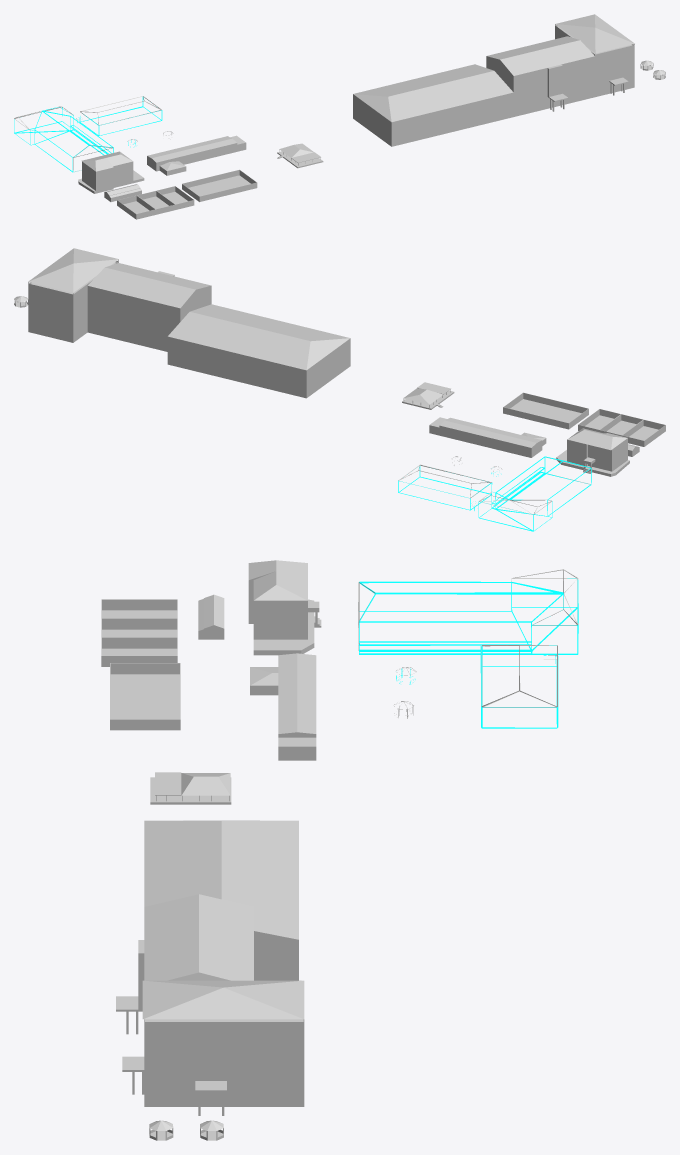
3 renders of one model, top to bottom at view 1: azimuth 30°, elevation 25°; view 2: azimuth 150°, elevation 25°; view 3: azimuth 270°, elevation 25°, orthographic. The views are drawn at different scales.
Visible parts, largest first — view 1: SketchUp.048, SketchUp.030, SketchUp.022, SketchUp.003, SketchUp.029, SketchUp.024, SketchUp.028, SketchUp.031, SketchUp.023, SketchUp.026, SketchUp.025, SketchUp.027; view 2: SketchUp.048, SketchUp.022, SketchUp.030, SketchUp.003, SketchUp.029, SketchUp.028, SketchUp.031, SketchUp.024, SketchUp.026, SketchUp.025, SketchUp.027; view 3: SketchUp.048, SketchUp.022, SketchUp.003, SketchUp.030, SketchUp.029, SketchUp.031, SketchUp.026, SketchUp.025, SketchUp.027, SketchUp.023, SketchUp.028, SketchUp.047 (+1 smaller).
Boxes of the visible parts, <box> form: SketchUp.048: <box>353,14,634,146</box>; SketchUp.030: <box>147,135,246,175</box>; SketchUp.022: <box>78,151,144,193</box>; SketchUp.003: <box>14,96,173,172</box>; SketchUp.029: <box>182,170,256,196</box>; SketchUp.024: <box>117,186,194,219</box>; SketchUp.028: <box>182,169,257,201</box>; SketchUp.031: <box>279,143,320,162</box>; SketchUp.023: <box>104,184,141,201</box>; SketchUp.026: <box>137,191,174,208</box>; SketchUp.025: <box>118,195,154,213</box>; SketchUp.027: <box>157,186,193,204</box>; SketchUp.048: <box>28,248,350,398</box>; SketchUp.022: <box>556,428,629,476</box>; SketchUp.030: <box>429,417,546,457</box>; SketchUp.003: <box>398,456,591,531</box>; SketchUp.029: <box>504,393,587,422</box>; SketchUp.028: <box>503,392,588,429</box>; SketchUp.031: <box>403,382,450,404</box>; SketchUp.024: <box>578,409,665,446</box>; SketchUp.026: <box>600,414,642,435</box>; SketchUp.025: <box>622,420,664,440</box>; SketchUp.027: <box>579,409,620,429</box>; SketchUp.048: <box>116,820,304,1106</box>; SketchUp.022: <box>248,560,321,655</box>; SketchUp.003: <box>358,569,578,728</box>; SketchUp.030: <box>250,653,316,760</box>; SketchUp.029: <box>110,663,179,719</box>; SketchUp.031: <box>155,772,230,795</box>; SketchUp.026: <box>102,618,177,637</box>; SketchUp.025: <box>102,599,177,617</box>; SketchUp.027: <box>102,637,177,655</box>; SketchUp.023: <box>198,594,224,639</box>; SketchUp.028: <box>110,663,180,730</box>; SketchUp.047: <box>150,777,231,804</box>.
Size of the model in its own units: 35.01 by 3.08 by 13.15.
18 materials, 15 textured.
